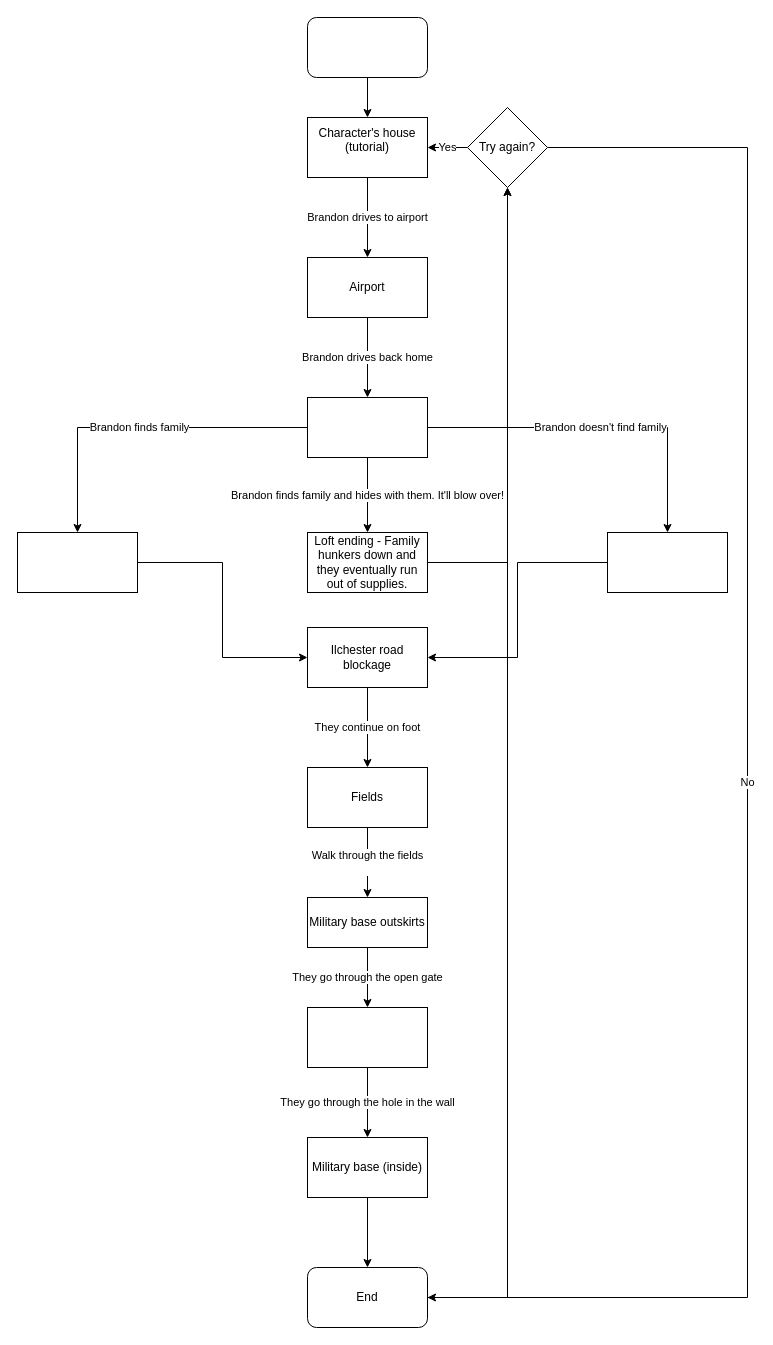
The diagram is 773 pixels wide and 1345 high, and some of its shapes have lost their labels. Each missing label, with the box of its shape:
Brandon leaves by himself.: (606, 532, 728, 592)
Brandon takes his family.: (16, 532, 138, 592)
Character's house (see items section for items): (306, 396, 428, 458)
Military base: (306, 1006, 428, 1068)
START: (306, 16, 428, 78)
